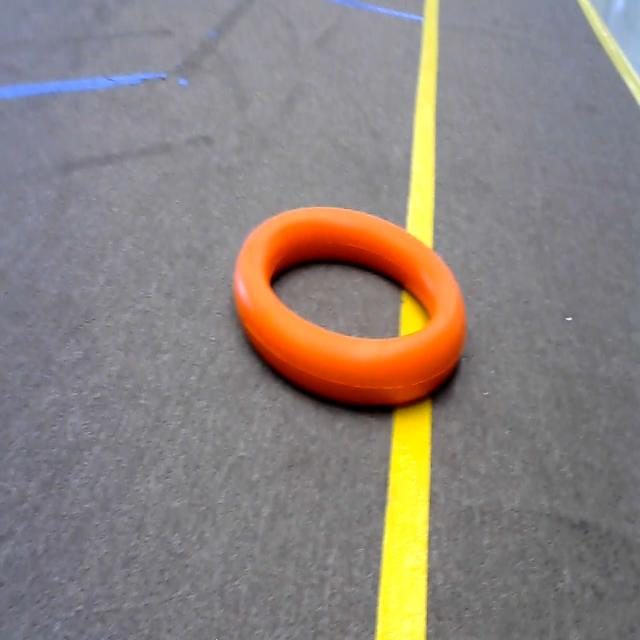note: (211, 178, 487, 443)
